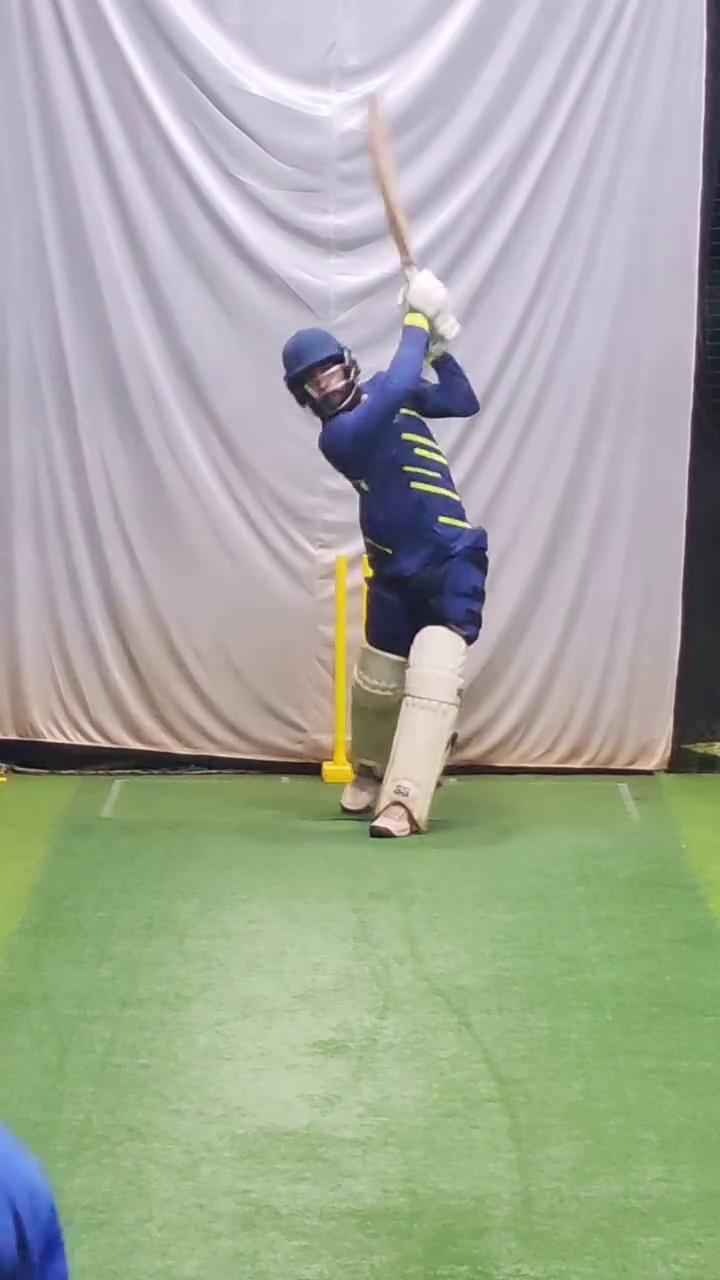bat: (354, 88, 423, 269)
